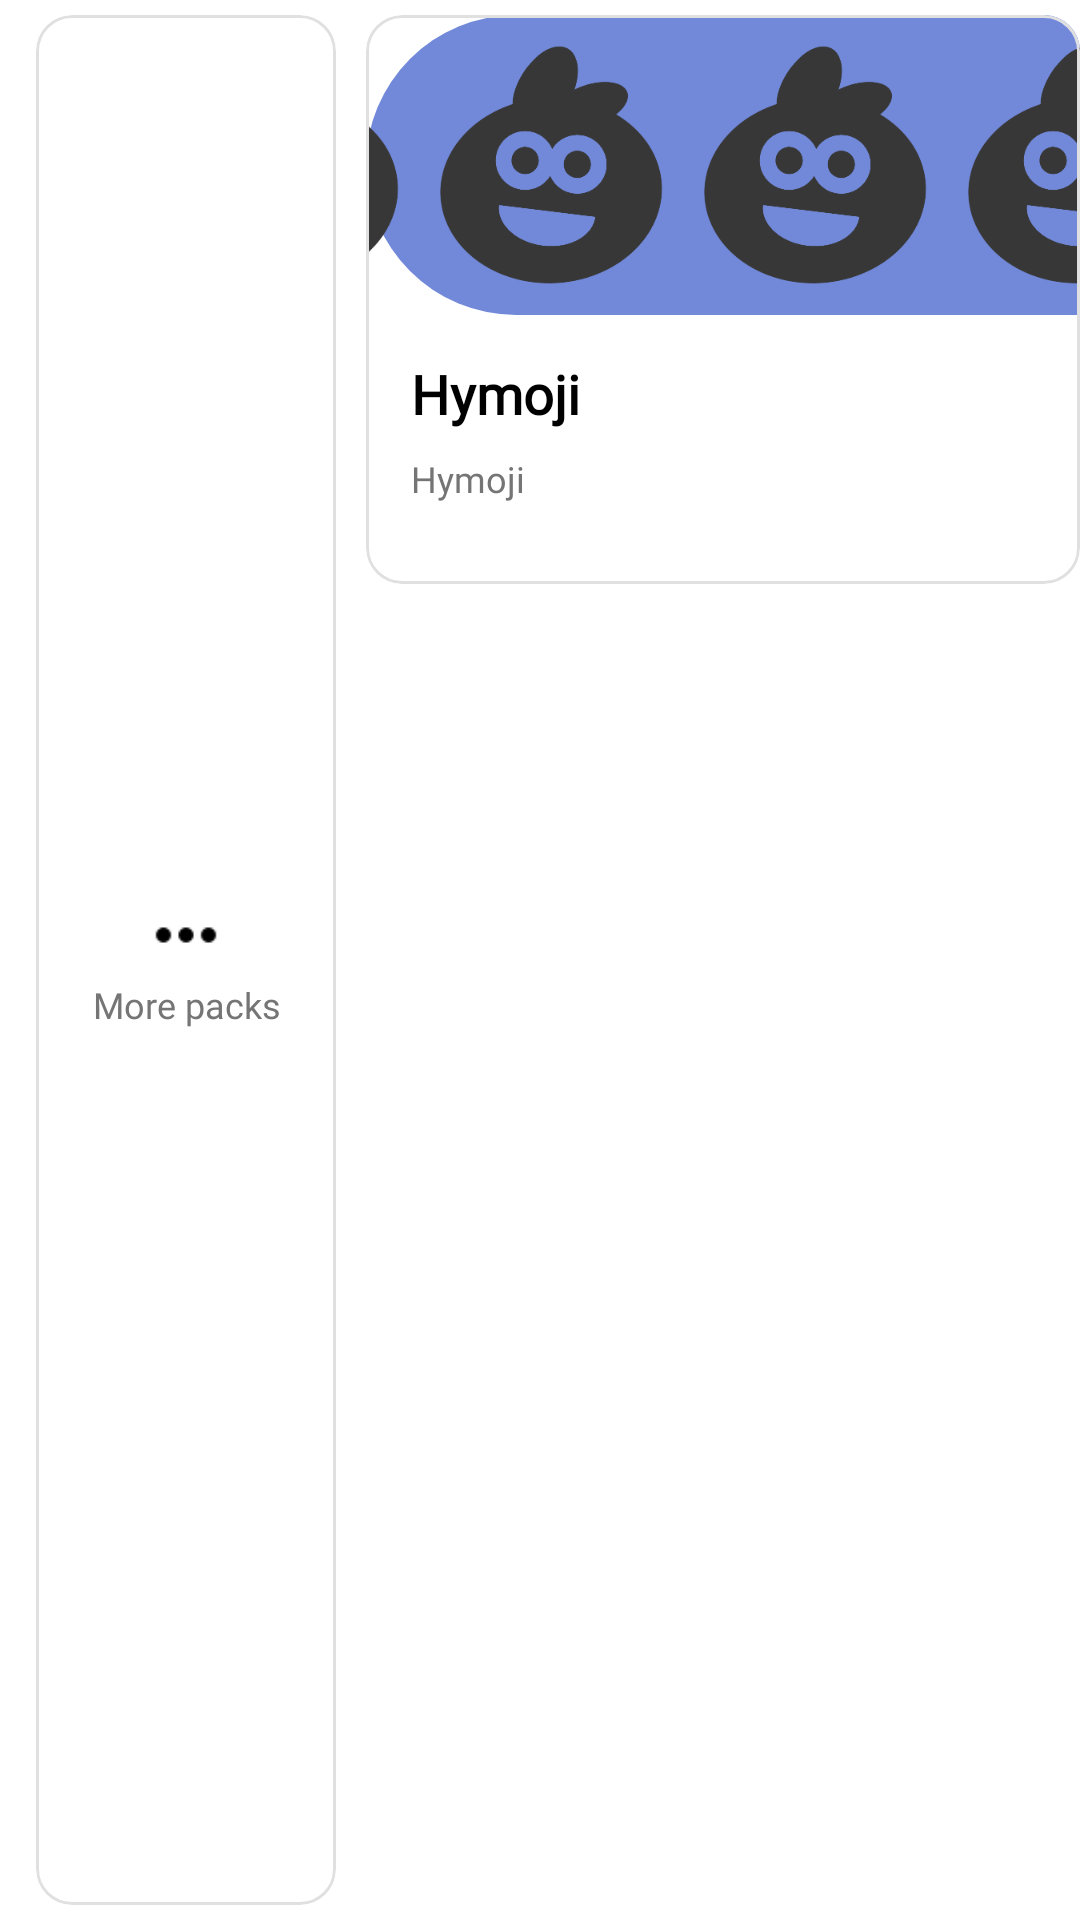

Named icons in this screenshot (1080×1920) and their bounding boxes, (x1, y1, x2, y2):
more horiz: (155, 927, 217, 943)
